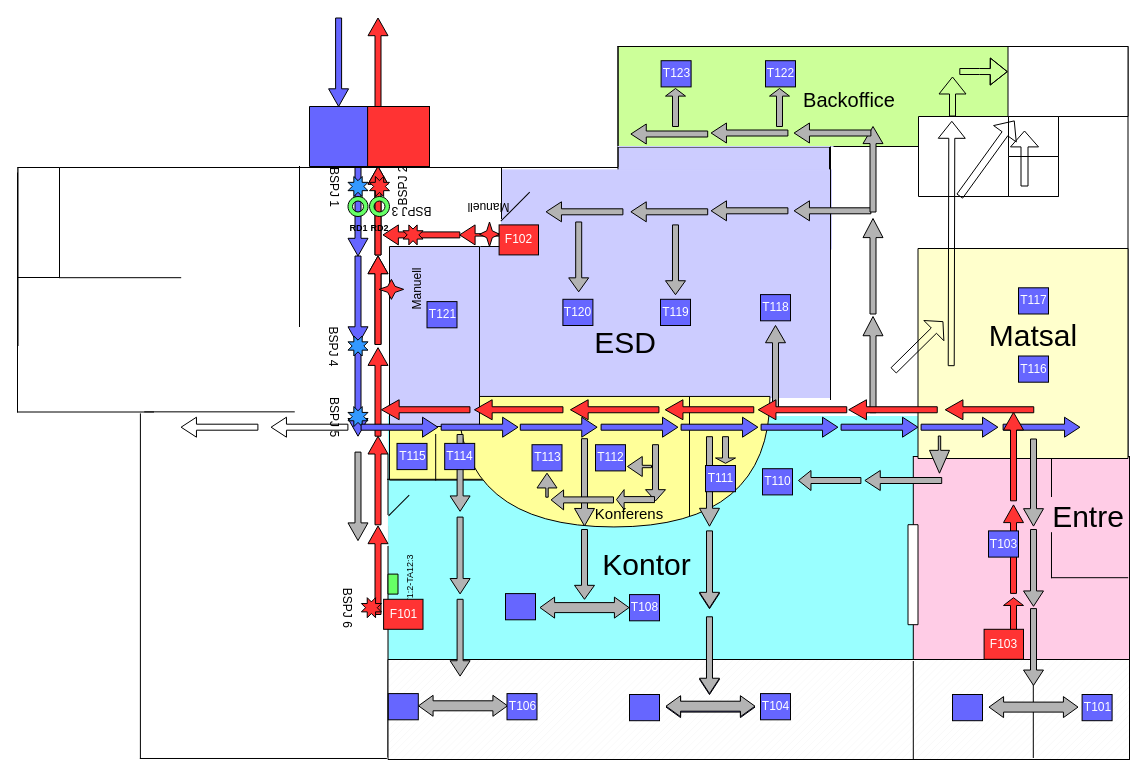
The diagram is 1147 pixels wide and 777 high, and some of its shapes have lost their labels. The shapes that lost their labels are listed below. From the top down, each one's box as (x1, y1, x2, y2) in pixels, then its label:
(504, 593, 536, 620): T109
(387, 693, 418, 720): T107
(628, 694, 660, 721): T105
(952, 694, 982, 721): T102
